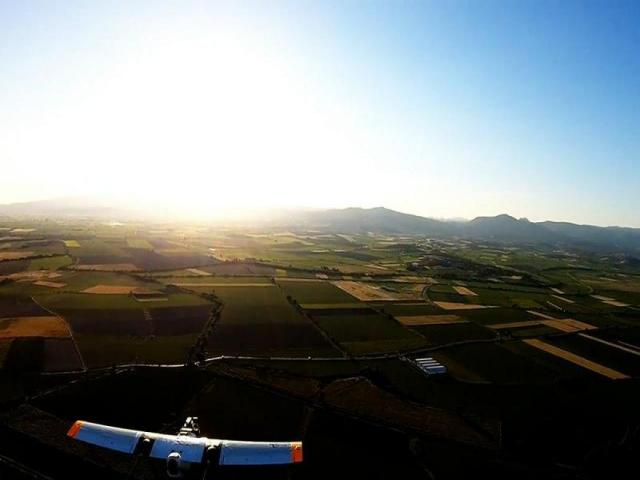hedef: (59, 403, 308, 480)
